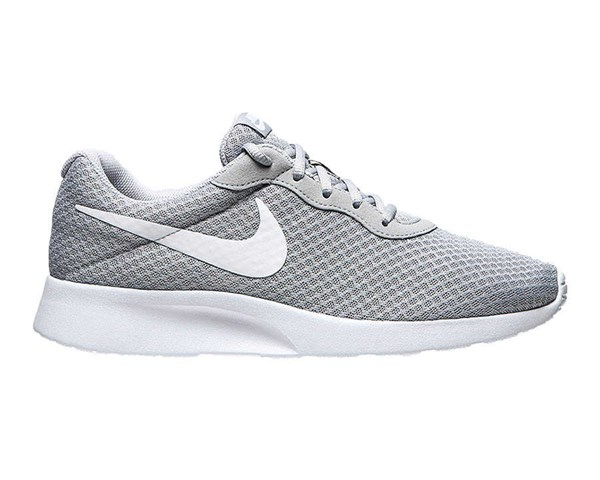nike: (70, 198, 291, 280)
